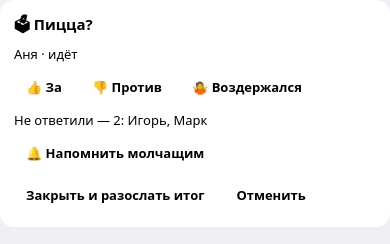
Test: PollCard — «🔔 Напомнить молчащим» › отказ — текст виден, опрос перечитан: закрытый уже без кнопки
Click the button "🔔 Напомнить молчащим": x=115, y=153 top-left (14, 135), bottom-right (216, 171)
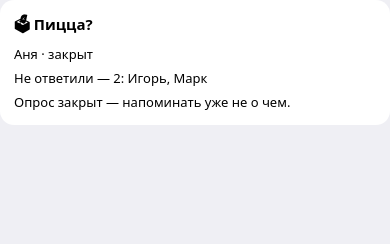
Expected: the text "Опрос закрыт — напоминать уже не о чем." is shown, top-left (14, 93), bottom-right (290, 111)
